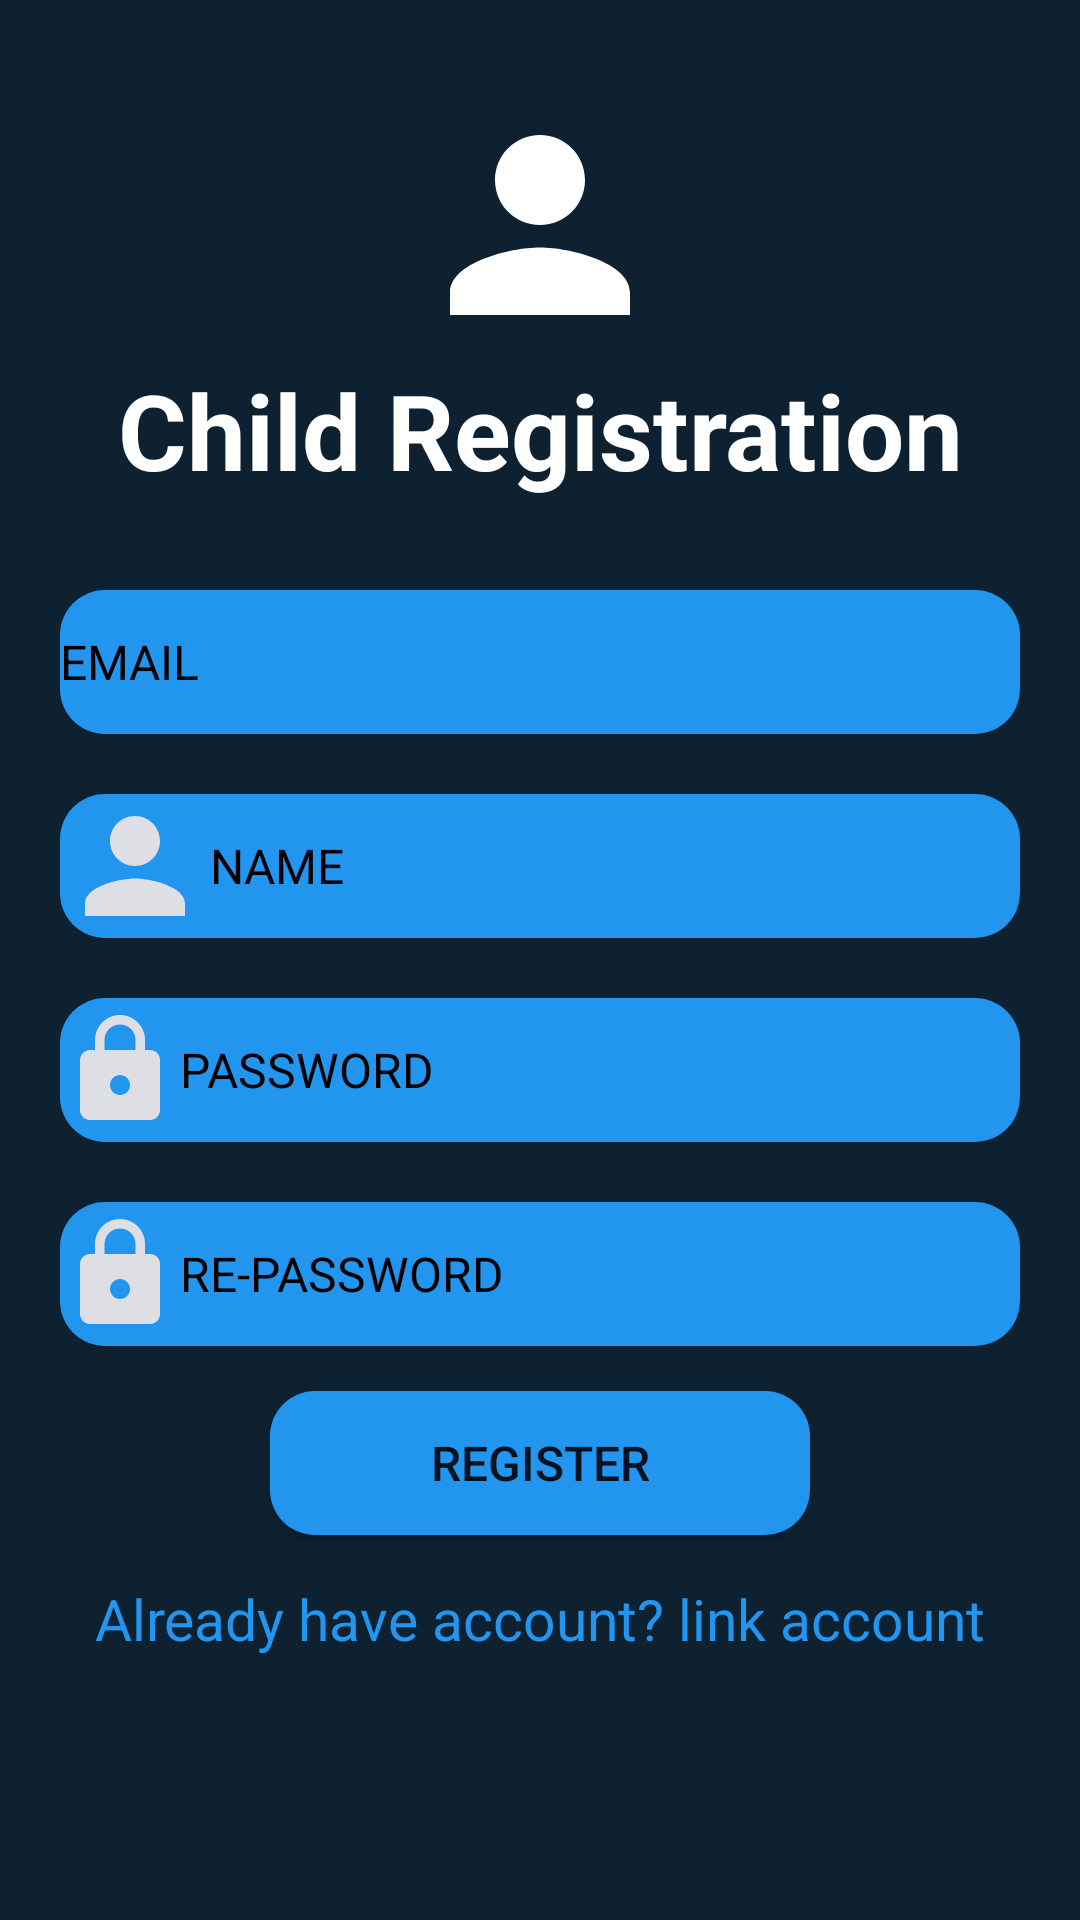

Icon bounding boxes for this 1080 × 1920 phone screenshot, format {"x1": x1, "y1": y1, "x2": x2, "y2": y2}:
profile: {"x1": 450, "y1": 135, "x2": 630, "y2": 315}
